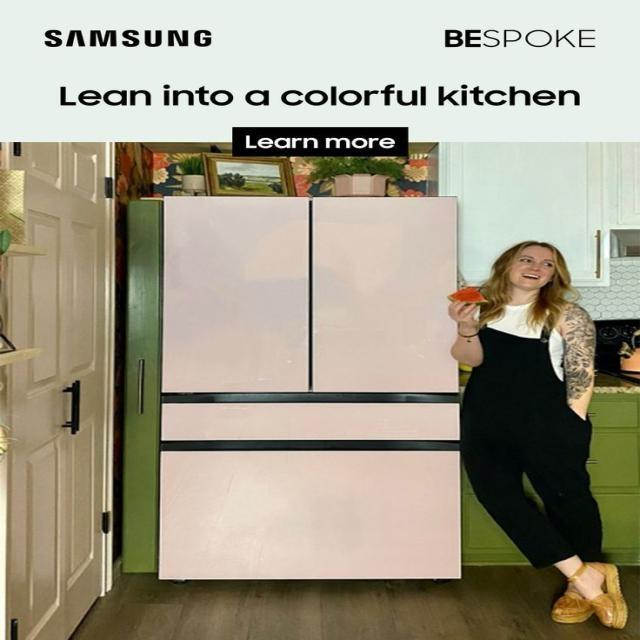obstacle: (142, 194, 464, 582), (460, 392, 639, 567)
person: (447, 240, 628, 629)
